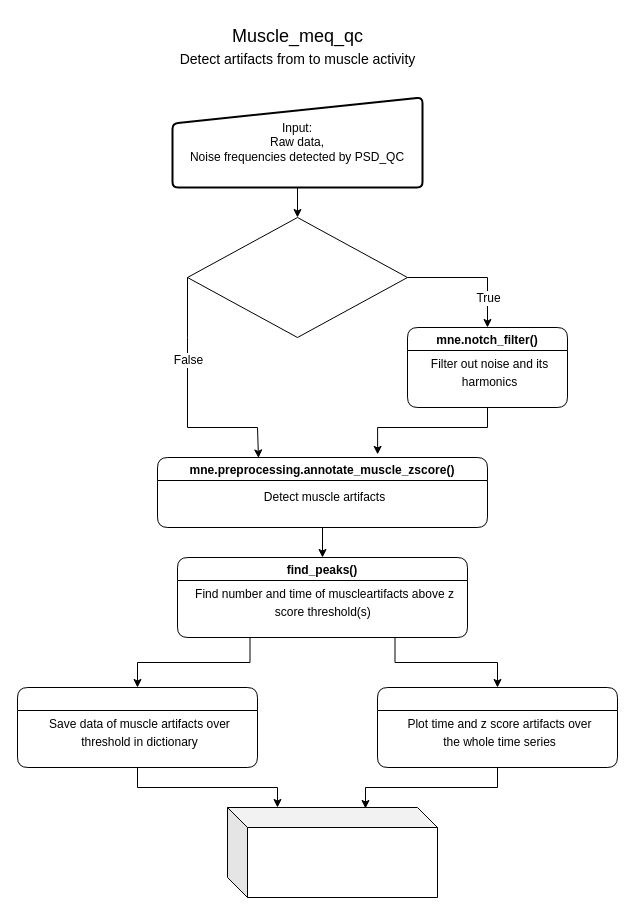
Image size: 635x915. Some labels were removed from this diagram. The centre of each missing label's shape, as x and y in pixels:
If power line (50, 60 Hz) or noise in muscle freq range present: (x=297, y=277)
make_simple_metric_muscle(): (x=137, y=727)
plot_muscle_artifacts(): (x=497, y=727)
Returns: QC derivative (Figure), Simple metric (dict): (x=332, y=852)
